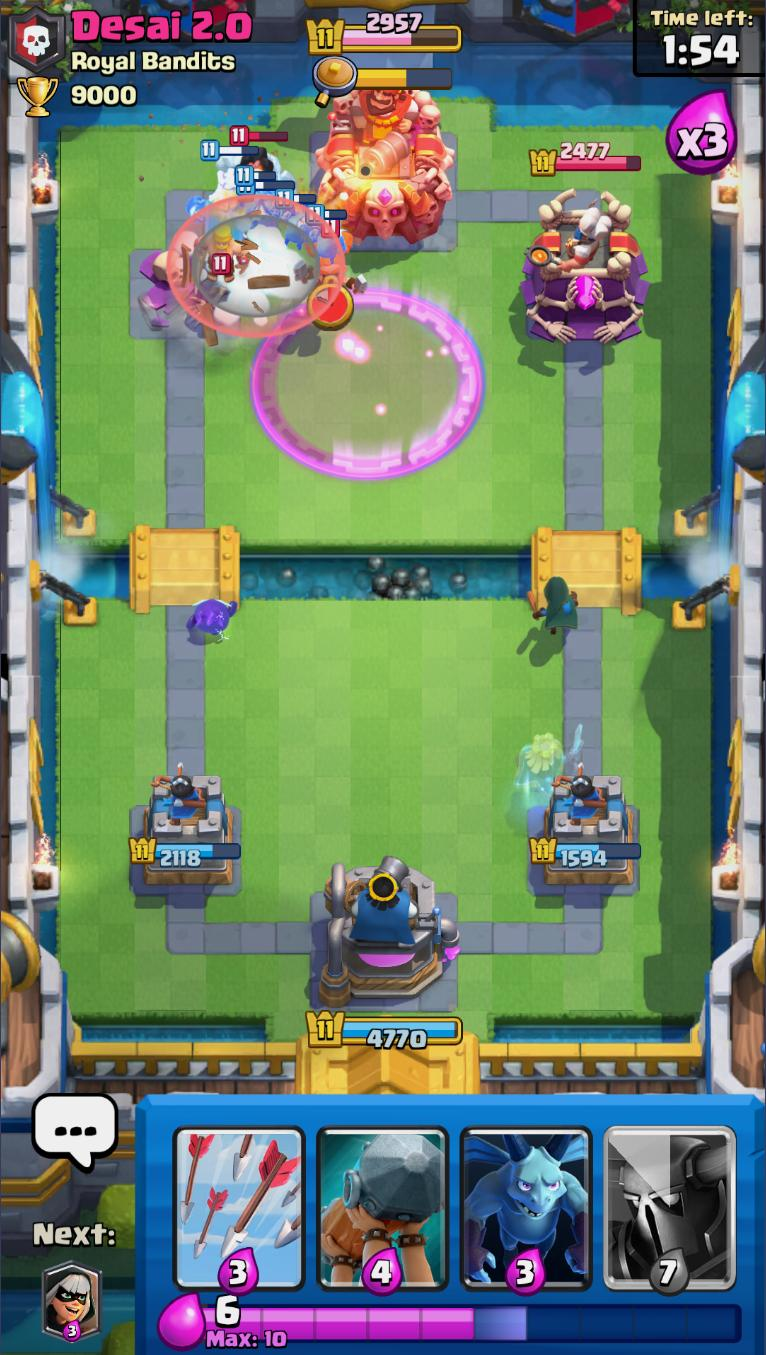ArrowDeck: (165, 1095, 314, 1296)
BanditNext: (38, 1260, 105, 1341)
Barbarian: (191, 225, 250, 284)
BattleRamDeck: (310, 1095, 455, 1299)
Berserker: (305, 218, 366, 295)
Chef: (552, 199, 618, 273)
Elixir: (203, 1293, 748, 1351)
EnemyTower: (516, 186, 651, 346)
EnemyTowerBrocken: (128, 244, 242, 344)
IceGolem: (230, 125, 294, 180)
KingTower: (310, 85, 456, 241)
KingTowerHP: (302, 10, 463, 56)
MinionsDeck: (450, 1096, 604, 1298)
MyBandit: (525, 571, 584, 635)
MyElectroSpirit: (186, 591, 238, 641)
MyKingHP: (301, 1006, 463, 1053)
MyKingTower: (315, 856, 460, 1008)
MyMinion: (276, 193, 321, 246), (309, 206, 351, 259), (238, 180, 280, 225)
MyPrincessTower: (126, 766, 238, 891), (539, 771, 638, 889)
MyPrincessTowerHP: (525, 832, 642, 870), (126, 835, 243, 868)
MyRoyaleGhost: (187, 140, 265, 250), (514, 725, 586, 807)
PekkaDeck: (599, 1098, 744, 1296)
Rage: (245, 286, 488, 478)
TowerPrincessHP: (528, 141, 641, 178)
